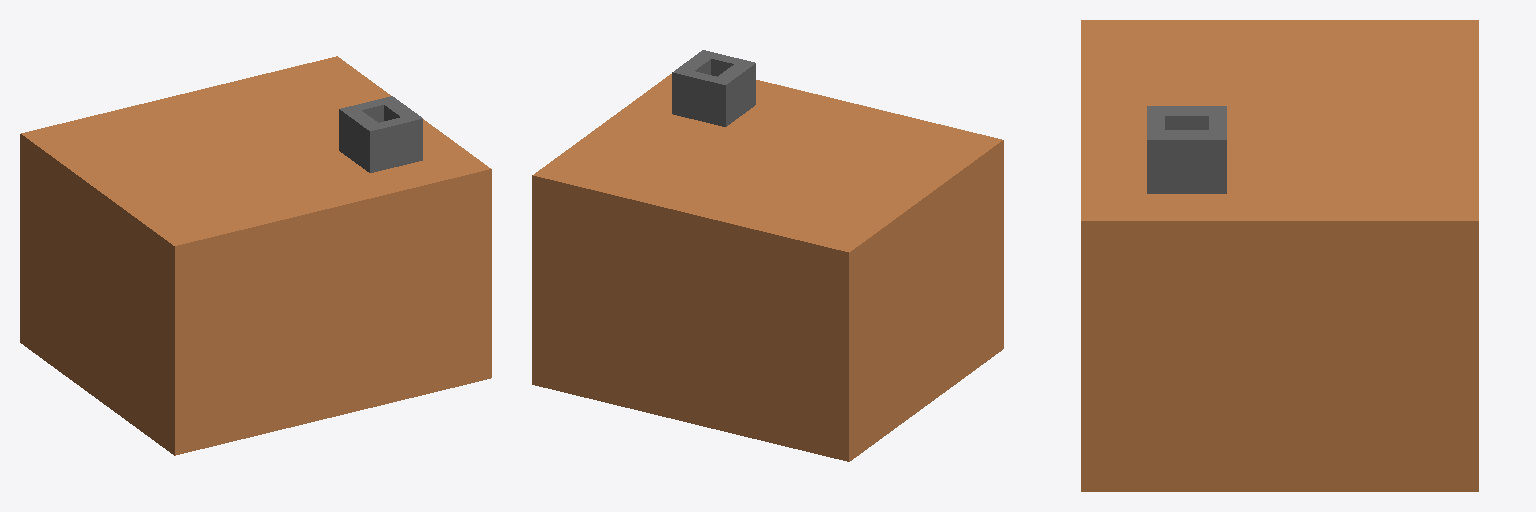
robot.urdf — peg_in_hole_scene_0053_tol08:
<?xml version="1.0"?>
<robot name="peg_in_hole_scene_0053_tol08">
  <material name="wood"><color rgba="0.82 0.56 0.35 1.0"/></material>
  <material name="hole_grey"><color rgba="0.4706 0.4706 0.4706 1.0"/></material>
  <link name="box">
    <visual>
      <origin xyz="0.000000 0.000000 0.000000" rpy="0 0 0"/>
      <geometry><box size="0.475000 0.400000 0.300000"/></geometry>
      <material name="wood"/>
    </visual>
    <collision>
      <origin xyz="0.000000 0.000000 0.000000" rpy="0 0 0"/>
      <geometry><box size="0.475000 0.400000 0.300000"/></geometry>
    </collision>
    <visual>
      <origin xyz="0.134073 -0.093046 0.155000" rpy="0 0 0"/>
      <geometry><box size="0.080000 0.080000 0.010000"/></geometry>
      <material name="hole_grey"/>
    </visual>
    <collision>
      <origin xyz="0.134073 -0.093046 0.155000" rpy="0 0 0"/>
      <geometry><box size="0.080000 0.080000 0.010000"/></geometry>
    </collision>
    <visual>
      <origin xyz="0.162648 -0.093046 0.185000" rpy="0 0 0"/>
      <geometry><box size="0.022850 0.080000 0.050000"/></geometry>
      <material name="hole_grey"/>
    </visual>
    <collision>
      <origin xyz="0.162648 -0.093046 0.185000" rpy="0 0 0"/>
      <geometry><box size="0.022850 0.080000 0.050000"/></geometry>
    </collision>
    <visual>
      <origin xyz="0.105498 -0.093046 0.185000" rpy="0 0 0"/>
      <geometry><box size="0.022850 0.080000 0.050000"/></geometry>
      <material name="hole_grey"/>
    </visual>
    <collision>
      <origin xyz="0.105498 -0.093046 0.185000" rpy="0 0 0"/>
      <geometry><box size="0.022850 0.080000 0.050000"/></geometry>
    </collision>
    <visual>
      <origin xyz="0.134073 -0.061971 0.185000" rpy="0 0 0"/>
      <geometry><box size="0.034300 0.017850 0.050000"/></geometry>
      <material name="hole_grey"/>
    </visual>
    <collision>
      <origin xyz="0.134073 -0.061971 0.185000" rpy="0 0 0"/>
      <geometry><box size="0.034300 0.017850 0.050000"/></geometry>
    </collision>
    <visual>
      <origin xyz="0.134073 -0.124121 0.185000" rpy="0 0 0"/>
      <geometry><box size="0.034300 0.017850 0.050000"/></geometry>
      <material name="hole_grey"/>
    </visual>
    <collision>
      <origin xyz="0.134073 -0.124121 0.185000" rpy="0 0 0"/>
      <geometry><box size="0.034300 0.017850 0.050000"/></geometry>
    </collision>
    <inertial>
      <mass value="500"/>
      <friction value="1.0"/>
      <inertia ixx="1000.0" ixy="0.0" ixz="0.0" iyy="1000.0" iyz="0.0" izz="1000.0"/>
    </inertial>
  </link>
</robot>

--- Facts derived from the render (not from the file) ---
Views: 3 orthographic renders of the robot side by side, from view 1: azimuth 30°, elevation 25°; view 2: azimuth 150°, elevation 25°; view 3: azimuth 270°, elevation 25°.
Robot: peg_in_hole_scene_0053_tol08 — 1 links, 0 joints (none); root link box; default pose: all joints at 0.
Visible links, largest first — view 1: box; view 2: box; view 3: box.
Link boxes in pixels (x1,y1,x2,y2): box: (20, 56, 491, 455); box: (532, 50, 1003, 461); box: (1081, 20, 1478, 491).
Bounding box of the posed robot: 0.475 × 0.4 × 0.36 m (x, y, z).
Geometry: primitives only (box / cylinder / sphere), no mesh files.
